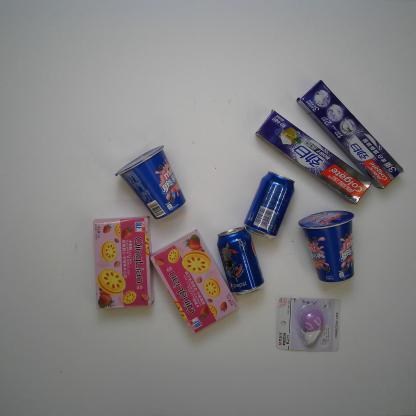Dessert: (149, 232, 238, 330), (93, 210, 155, 314), (112, 142, 188, 222), (300, 211, 352, 282)
Drink: (242, 168, 294, 238), (217, 227, 264, 293)
Personal Hygiene: (296, 74, 406, 189), (258, 110, 371, 202)
Stationery: (274, 298, 339, 352)
